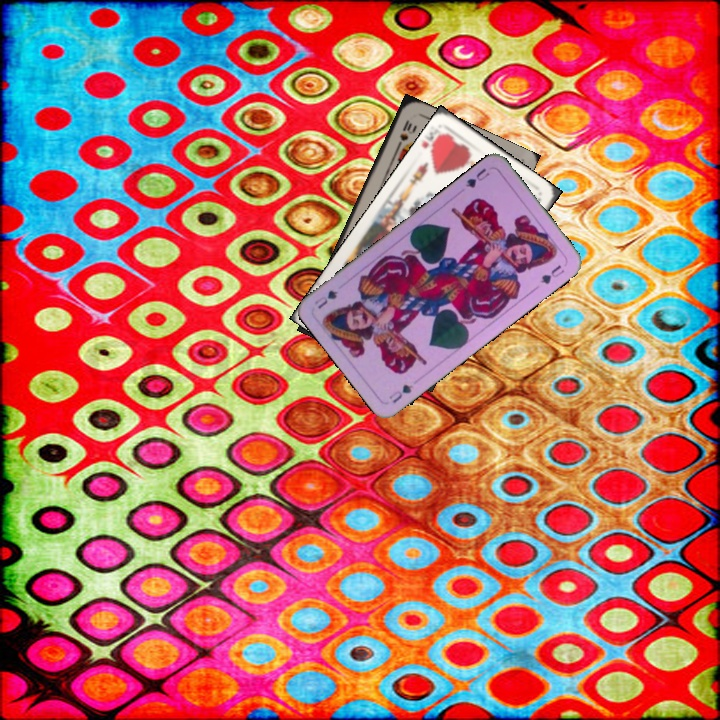GU: (385, 380, 416, 406), (462, 164, 492, 190)
HK: (418, 128, 449, 159)
S10: (392, 115, 414, 151)
